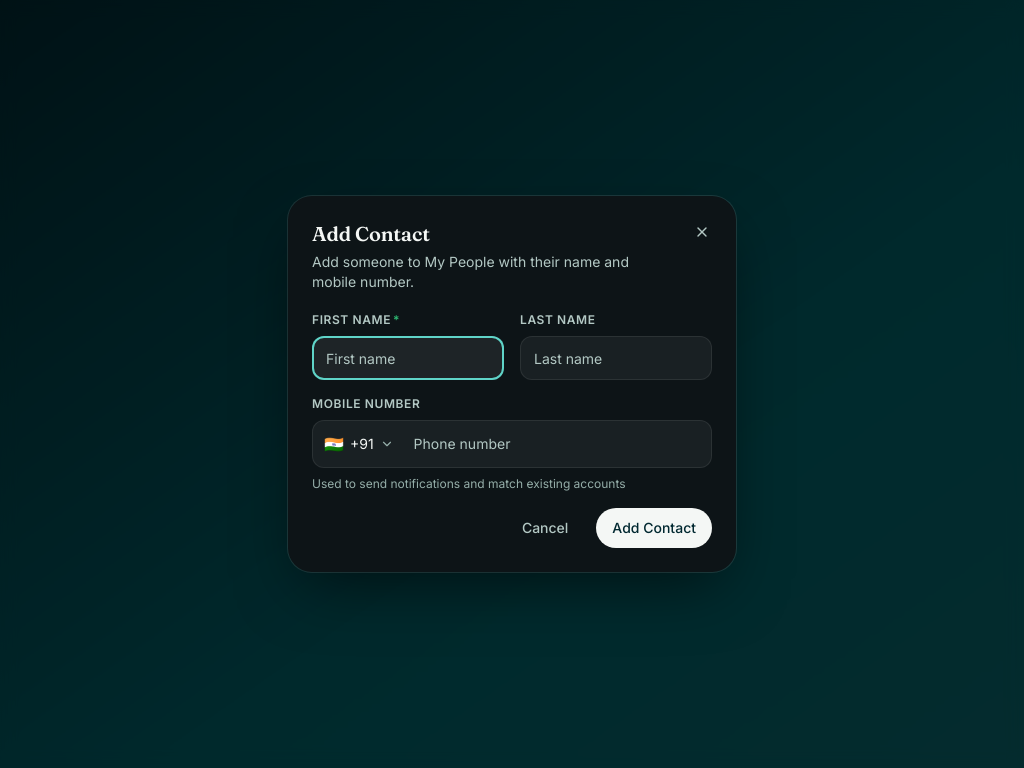
it: AddContactDialog (integration) › surfaces a server validation error for a duplicate number
The image size is (1024, 768).
Type "Dup" into the field with placeholder "First name". click: (408, 358)
box: [312,336,504,380]
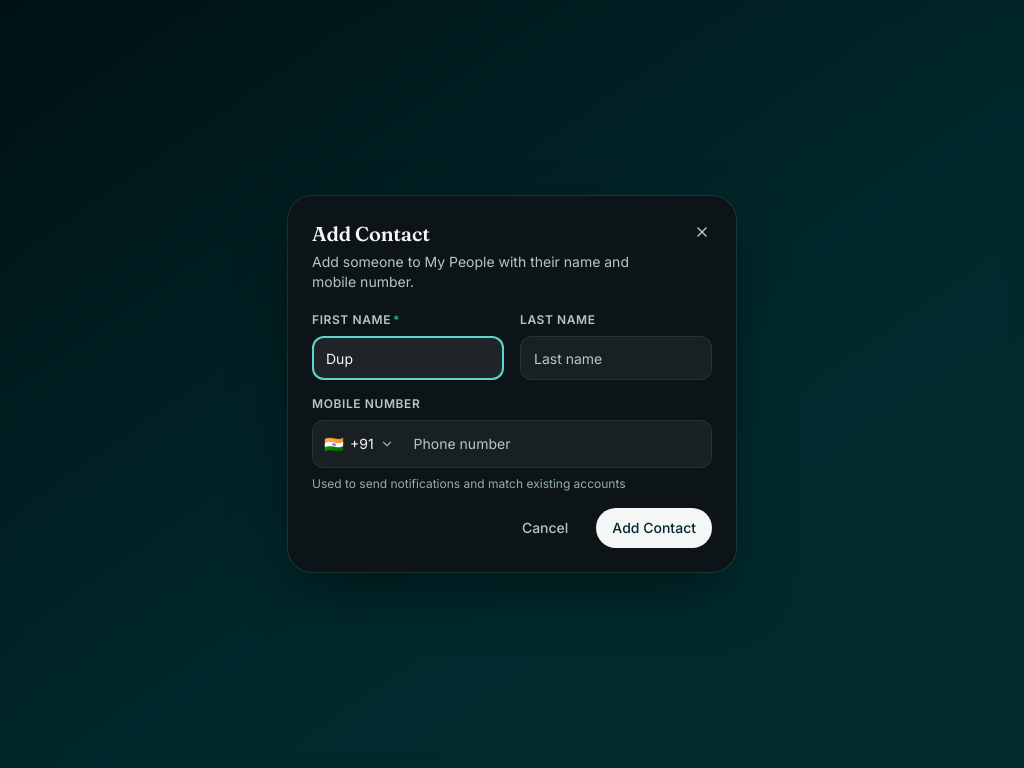
Type "9998887766" into the field with placeholder "Phone number". click: (559, 444)
box: [406,420,712,468]
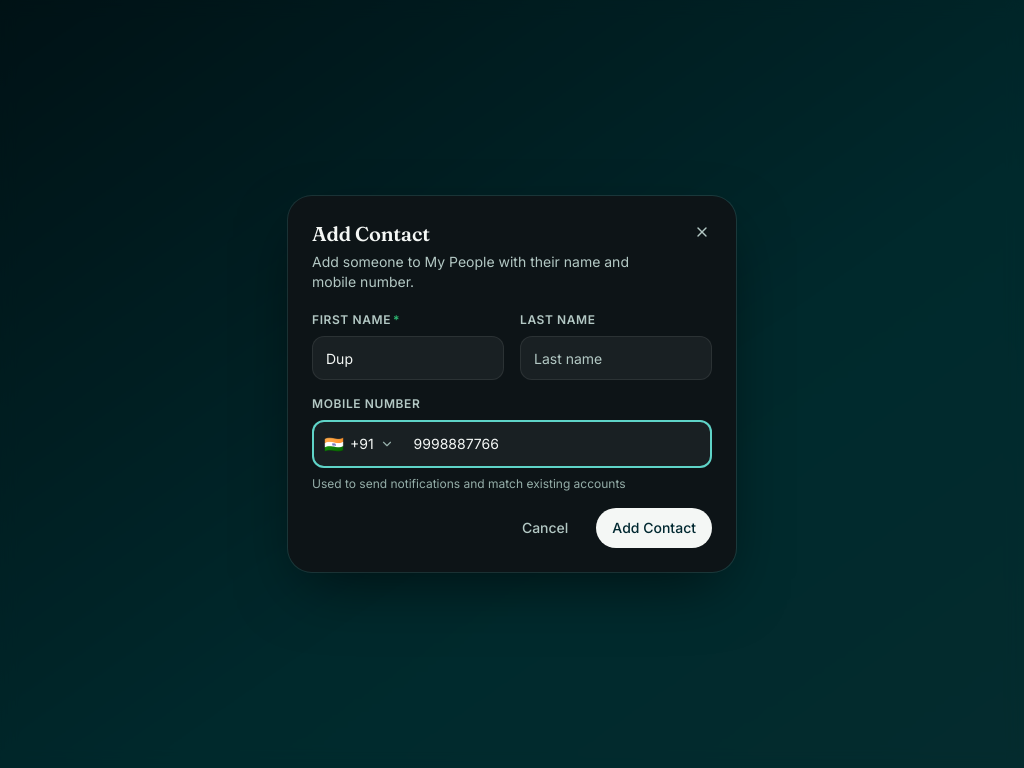
Click the button "Add Contact". click: (654, 528)
box: [596,508,712,548]
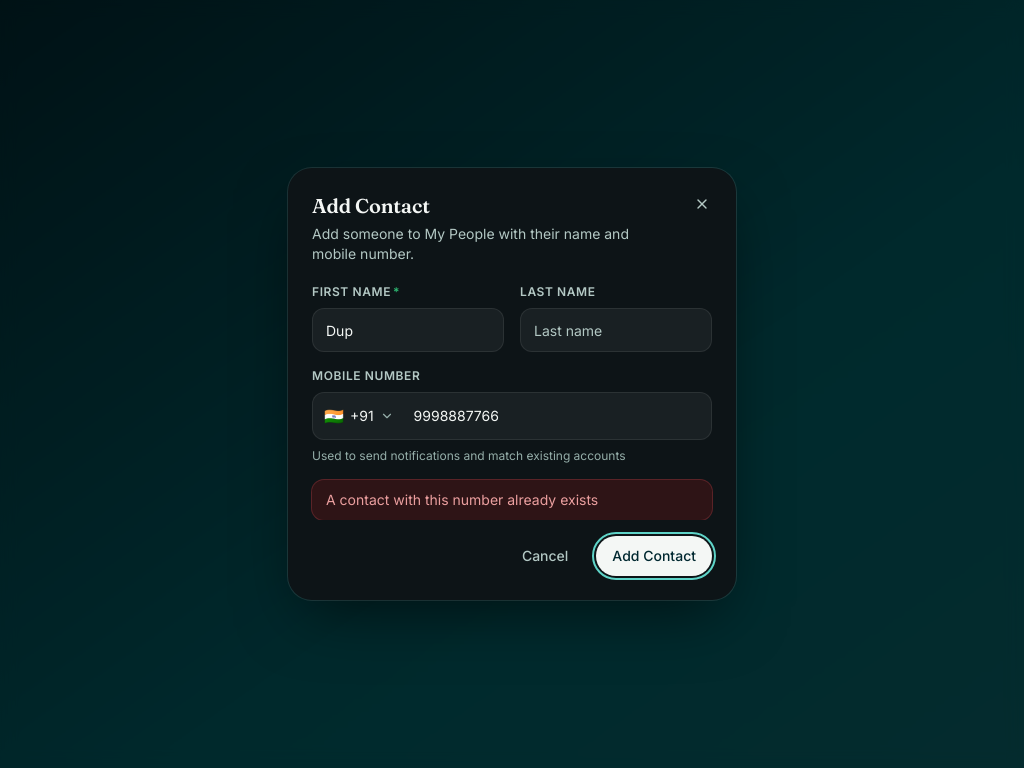
Now the text "A contact with this number already exists" is shown, box [312,480,712,520]
